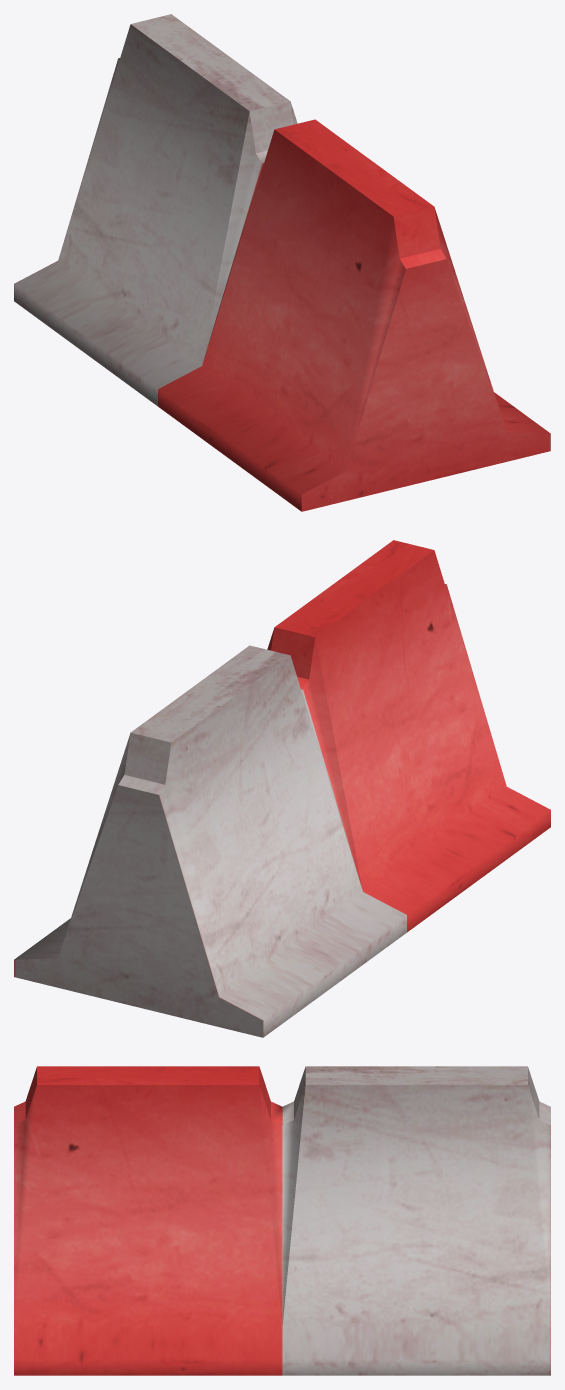
File: barrier_red_white.fbx
3 views of the same model, one above another, from view 1: azimuth 30°, elevation 25°; view 2: azimuth 150°, elevation 25°; view 3: azimuth 270°, elevation 25° (orthographic). The views are drawn at different scales.
Visible parts, largest first — view 1: barrier_red_white; view 2: barrier_red_white; view 3: barrier_red_white.
Part boxes in pixels (<box>): barrier_red_white: <box>14,14,550,511</box>; barrier_red_white: <box>14,540,550,1037</box>; barrier_red_white: <box>14,1066,550,1375</box>.
Size of the model in its own units: 20 by 20 by 40.
